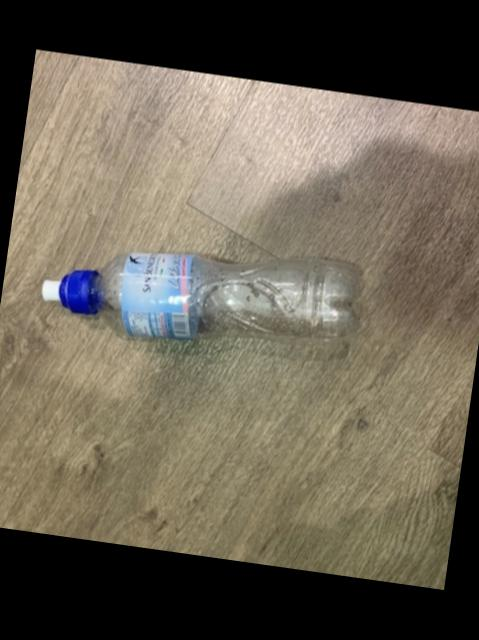plastic: (39, 254, 354, 341)
